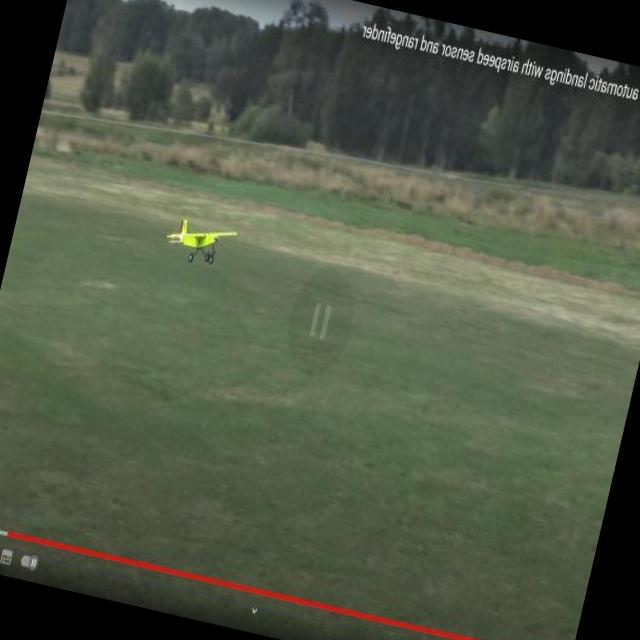UAV: (126, 196, 246, 295)
